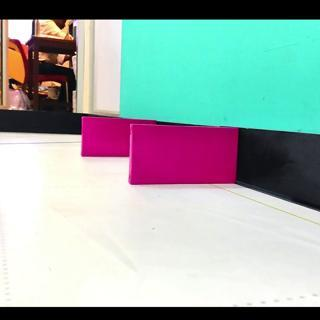xparking: (132, 122, 237, 182), (81, 117, 127, 157)
